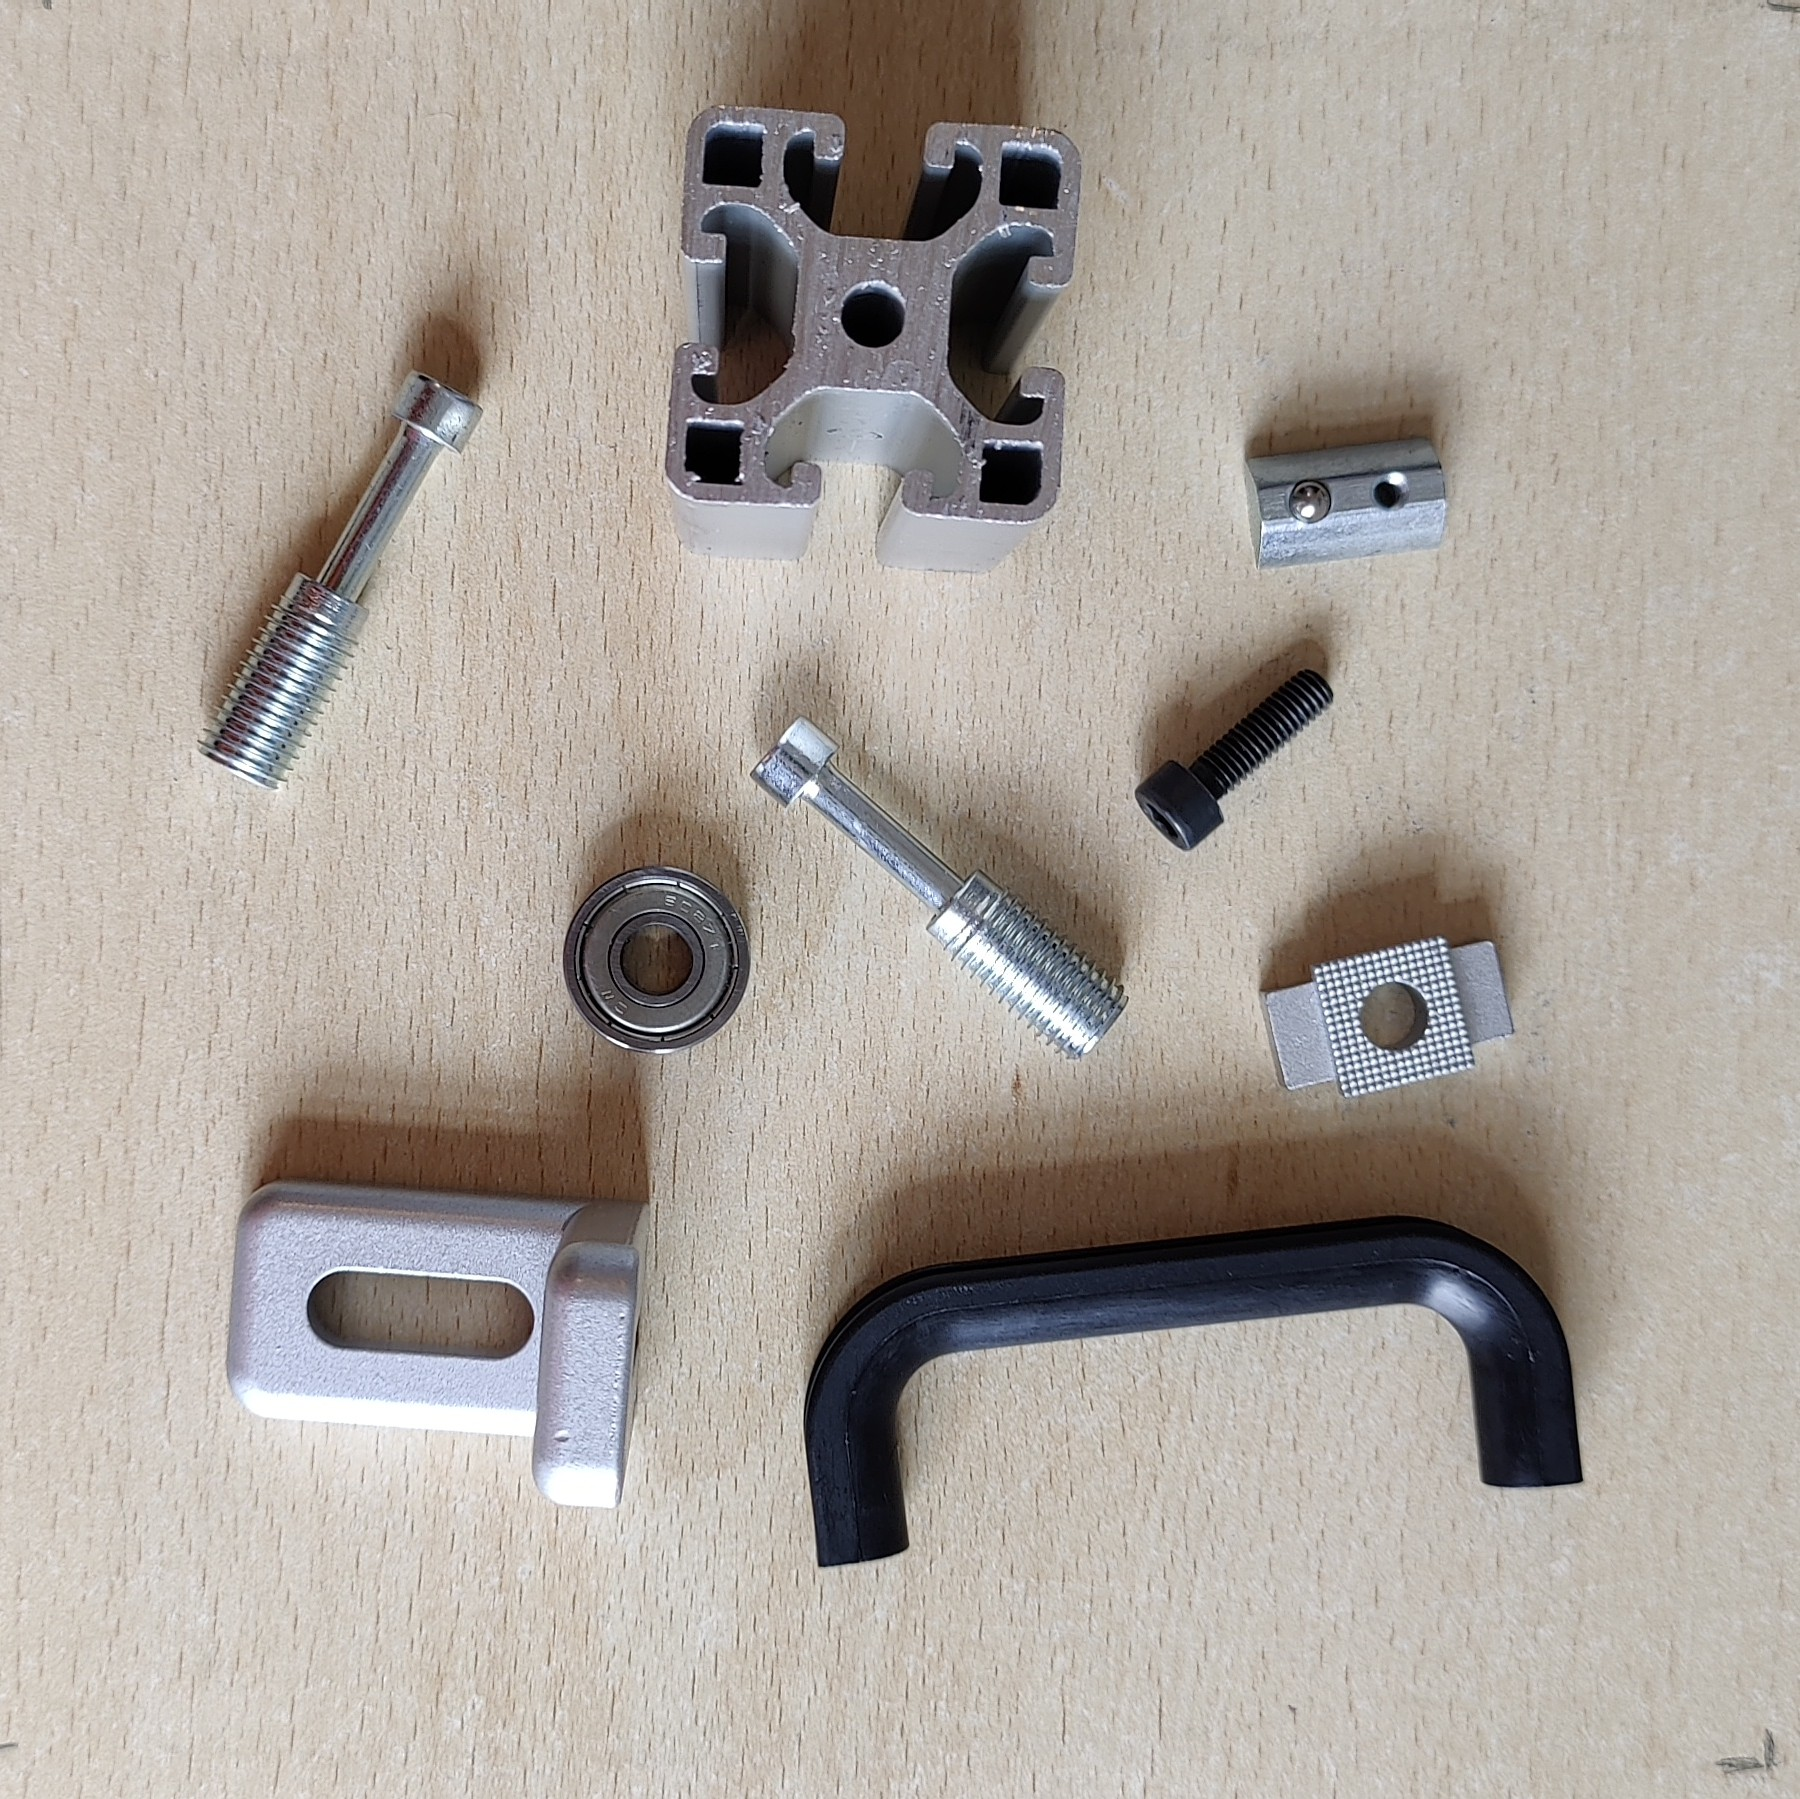Aluminium Extension: (660, 100, 1084, 575)
Ball Bearing: (562, 860, 753, 1058)
Multiwinkel: (224, 1175, 654, 1511)
Pull Handle: (800, 1213, 1584, 1572)
Shoulder Socket Head Cap Screw: (748, 712, 1131, 1063), (198, 366, 486, 796)
Socket Head Cap Screw: (1131, 666, 1337, 853)
T Nut Square: (1255, 931, 1520, 1100)
T Spring Nut: (1238, 435, 1451, 572)
